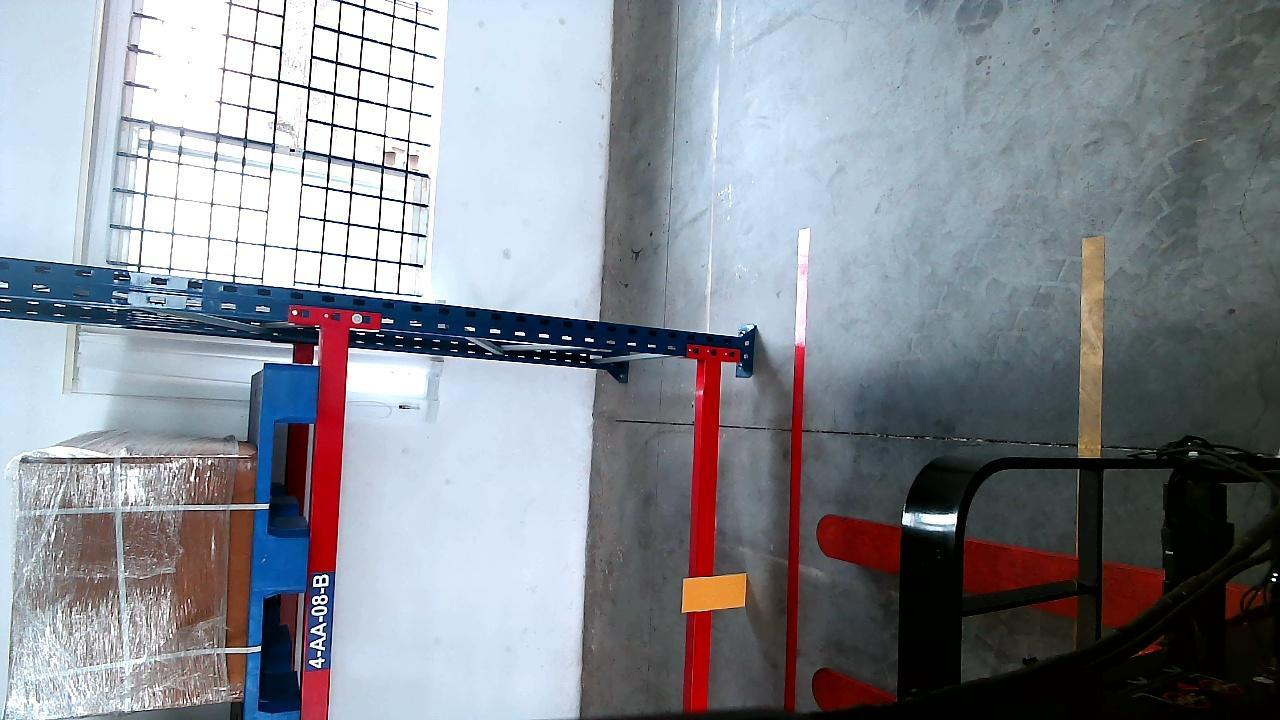red_line: (782, 227, 812, 708)
yellow_line: (1080, 233, 1103, 455)
